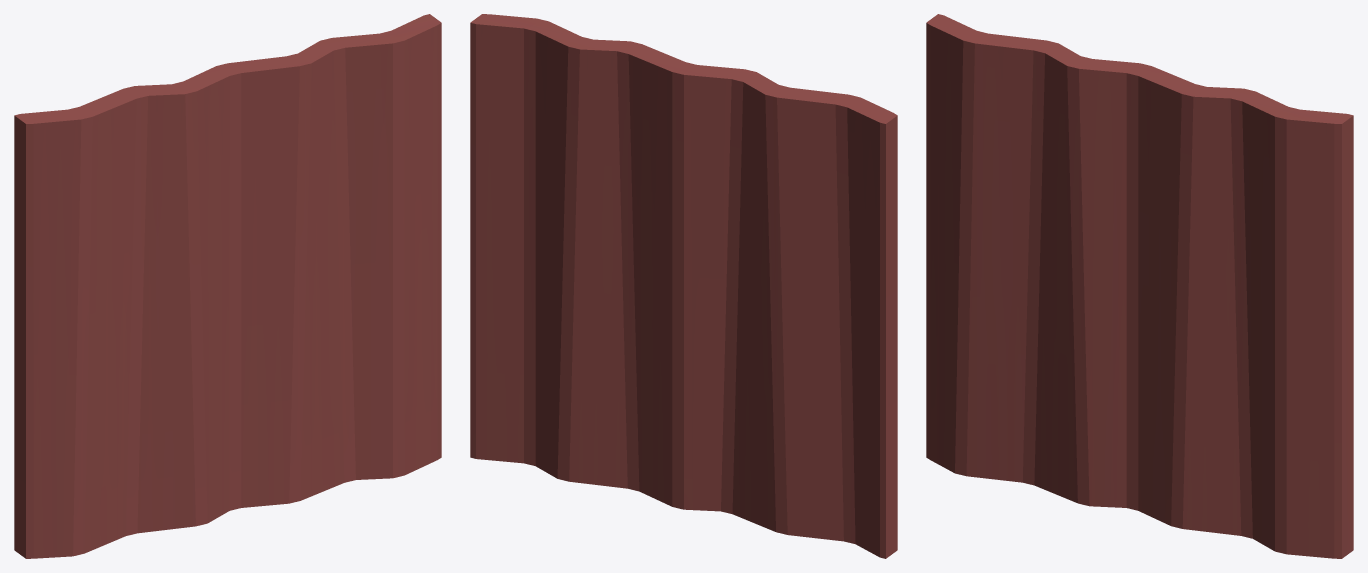
Rendered from wall_metal_2.glb.
3 renders of one model, left to right at view 1: azimuth 30°, elevation 25°; view 2: azimuth 150°, elevation 25°; view 3: azimuth 330°, elevation 25°, orthographic.
Parts seen in each view (by area): view 1: wall_metal_2; view 2: wall_metal_2; view 3: wall_metal_2.
Boxes of the visible parts, x1,y1,x2,y2 form: wall_metal_2: (14,14,441,558); wall_metal_2: (470,14,897,558); wall_metal_2: (926,14,1353,558).
Bounding box in the file's own units: 2 × 2 × 0.1751.
1 material, 1 textured.
